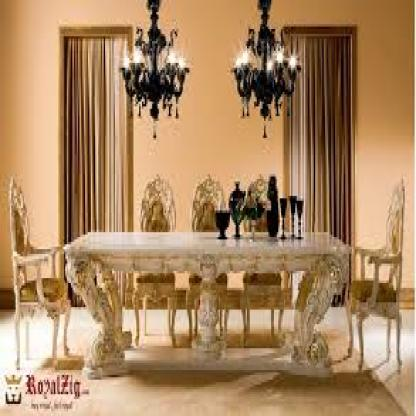Dining Table: (5, 177, 413, 396)
